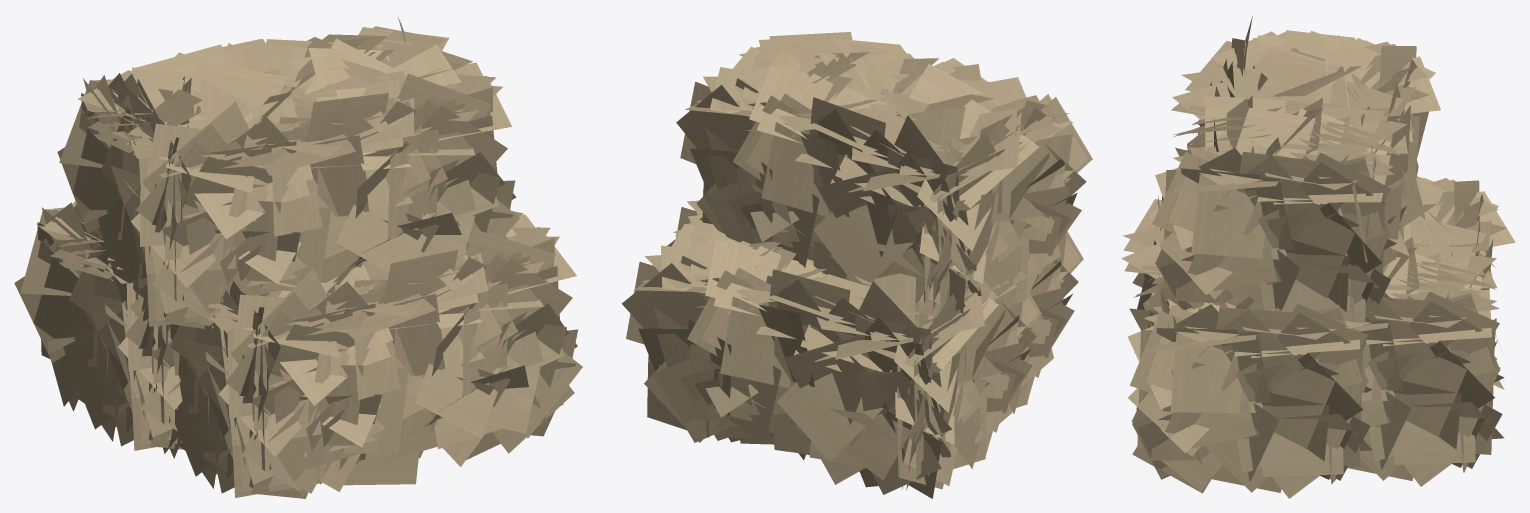
File: HayPile1.glb
The picture shows the model from 3 angles, left to right: view 1: azimuth 30°, elevation 25°; view 2: azimuth 150°, elevation 25°; view 3: azimuth 270°, elevation 25°; orthographic projection. The views are drawn at different scales.
Parts seen in each view (by area): view 1: Haybale; view 2: Haybale; view 3: Haybale.
Boxes of the visible parts, box(x1,y1,x2,y2) form: Haybale: box(14, 17, 582, 498); Haybale: box(621, 32, 1092, 498); Haybale: box(1121, 16, 1515, 498).
Size of the model in its own units: 1.41 by 1.27 by 1.32.
Materials: 2 (2 with a texture image).
